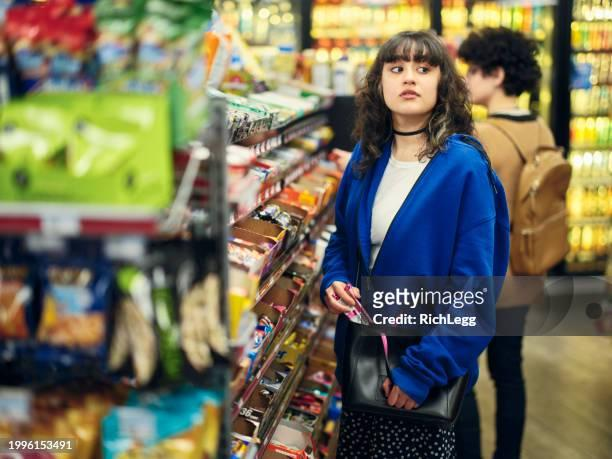shoplifting: (258, 256, 561, 459)
